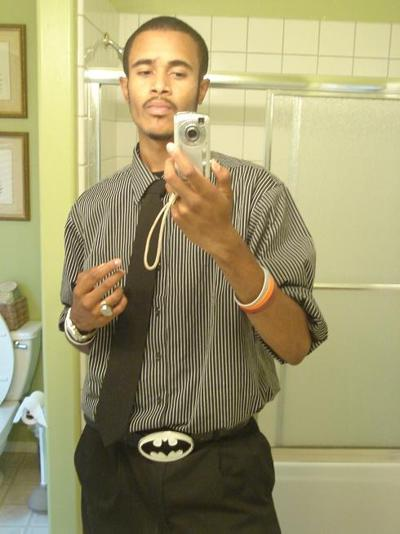person: (60, 17, 328, 533)
